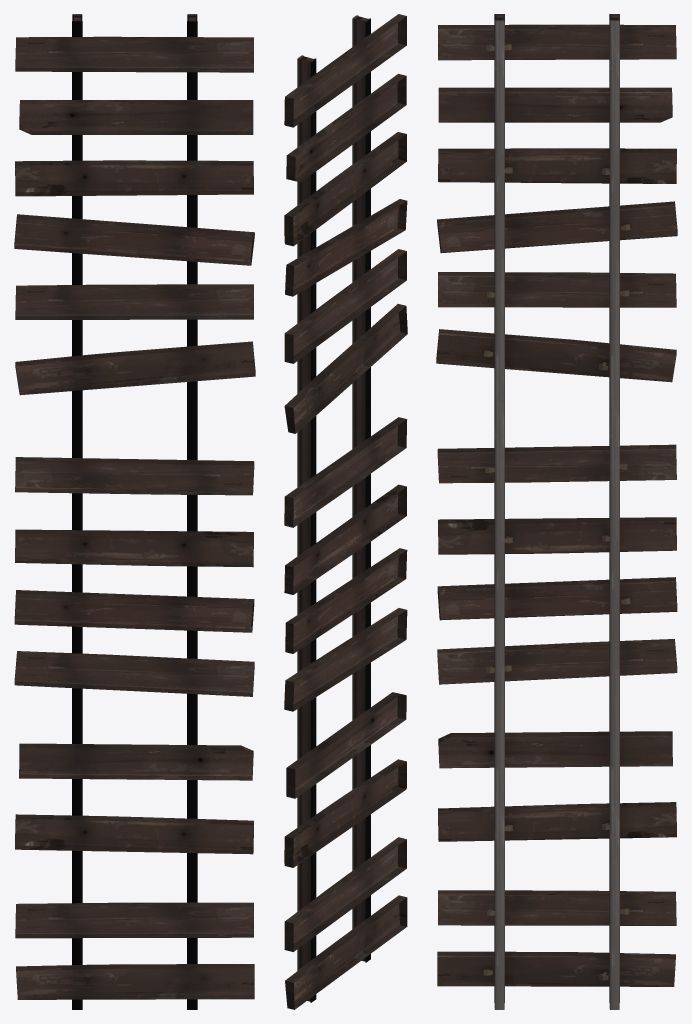
Rendered from props_mining_track_straight_256.glb.
3 renders of one model, left to right at view 1: azimuth 90°, elevation 25°; view 2: azimuth 150°, elevation 25°; view 3: azimuth 270°, elevation 25°, orthographic. The views are drawn at different scales.
Visible parts, largest first — view 1: models/props_mining/track_straight_256; view 2: models/props_mining/track_straight_256; view 3: models/props_mining/track_straight_256.
Boxes of the visible parts, x1,y1,x2,y2 form: models/props_mining/track_straight_256: [14, 14, 255, 1009]; models/props_mining/track_straight_256: [284, 14, 407, 1009]; models/props_mining/track_straight_256: [436, 14, 677, 1009].
Size of the model in its own units: 6.68 by 255 by 56.45.
1 material, 1 textured.
